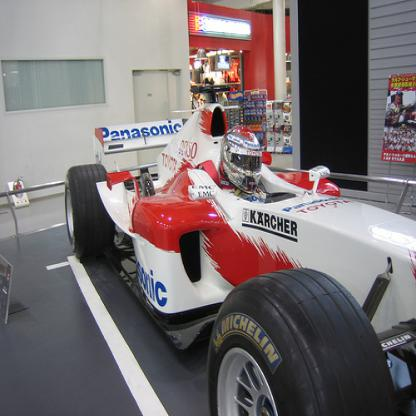car: (63, 100, 415, 415)
